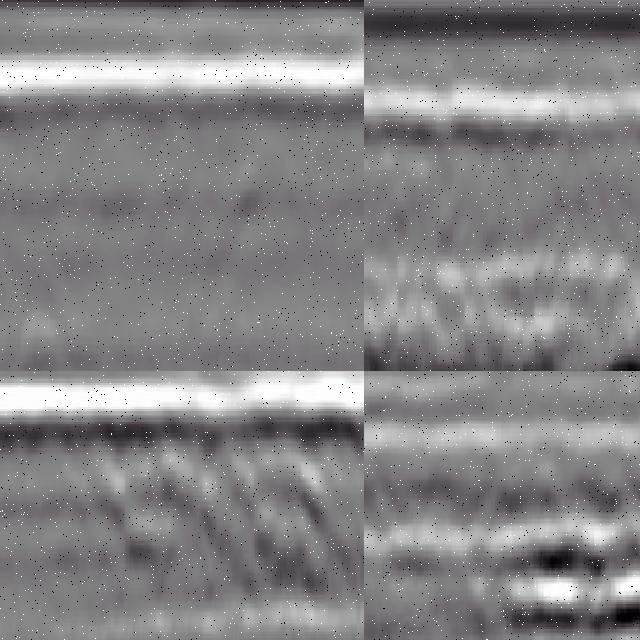loose: (105, 414, 339, 598), (475, 518, 640, 640)
